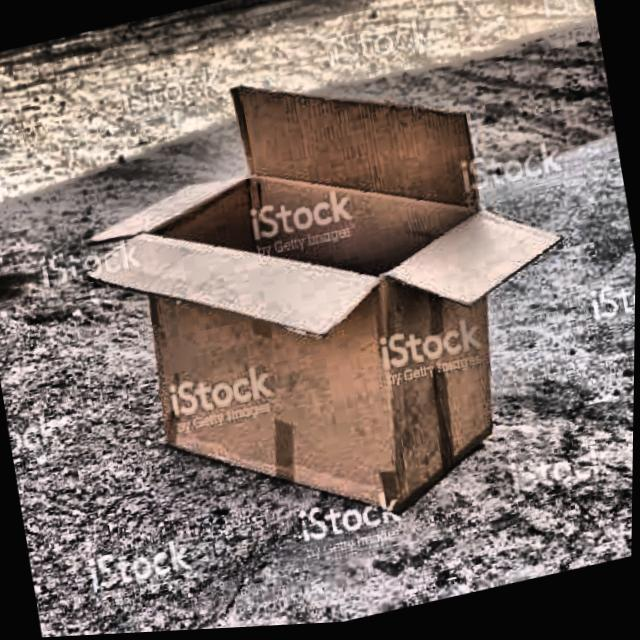Cardbox: (33, 12, 614, 584)
